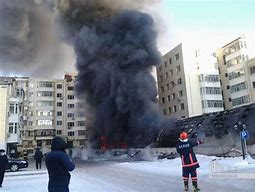smoke: (68, 1, 161, 122)
